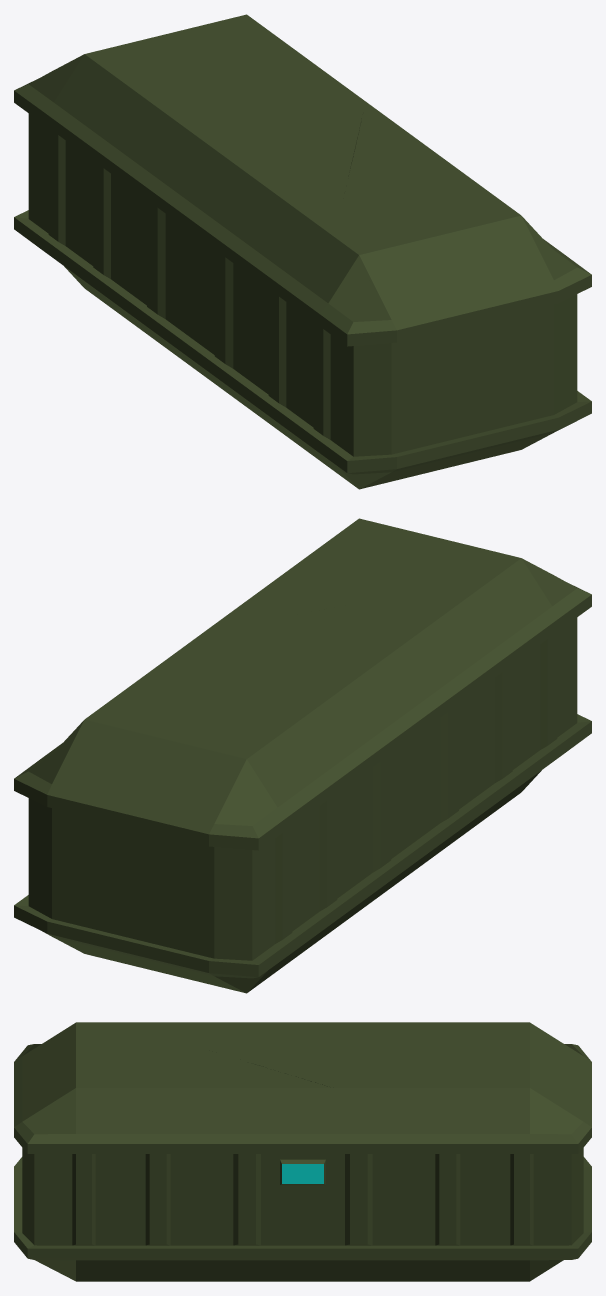
Rendered from weaponcrate.fbx.
3 renders of one model, top to bottom at view 1: azimuth 30°, elevation 25°; view 2: azimuth 150°, elevation 25°; view 3: azimuth 270°, elevation 25°, orthographic. The views are drawn at different scales.
Visible parts, largest first — view 1: Cube, Cube_cell.005, Cube_cell.004, Cube_cell.001, Cube_cell, Cube_cell.007, Cube_cell.002, Cube_cell.003, Cube_cell.009; view 2: Cube, Cube_cell.004, Cube_cell.001, Cube_cell.005, Cube_cell.007, Cube_cell.002, Cube_cell; view 3: Cube, Cube_cell.001, Cube_cell.008, Cube_cell.009, Cube_cell.005, Cube_cell.006, Cube_cell.004.
Boxes of the visible parts, x1,y1,x2,y2 form: Cube: (14,46,591,479); Cube_cell.005: (126,79,362,324); Cube_cell.004: (14,46,139,298); Cube_cell.001: (116,14,364,100); Cube_cell: (295,248,498,489); Cube_cell.007: (82,68,221,365); Cube_cell.002: (211,223,333,466); Cube_cell.003: (215,377,336,472); Cube_cell.009: (439,433,552,469); Cube: (14,518,591,993); Cube_cell.004: (93,732,352,976); Cube_cell.001: (14,633,246,935); Cube_cell.005: (215,587,495,775); Cube_cell.007: (243,718,450,925); Cube_cell.002: (446,632,540,833); Cube_cell: (502,595,591,806); Cube: (14,1022,591,1281); Cube_cell.001: (333,1033,591,1281); Cube_cell.008: (64,1077,350,1262); Cube_cell.009: (29,1232,357,1281); Cube_cell.005: (175,1025,458,1087); Cube_cell.006: (28,1144,92,1258); Cube_cell.004: (483,1022,591,1211).
Size of the model in its own units: 121 by 111 by 300.
